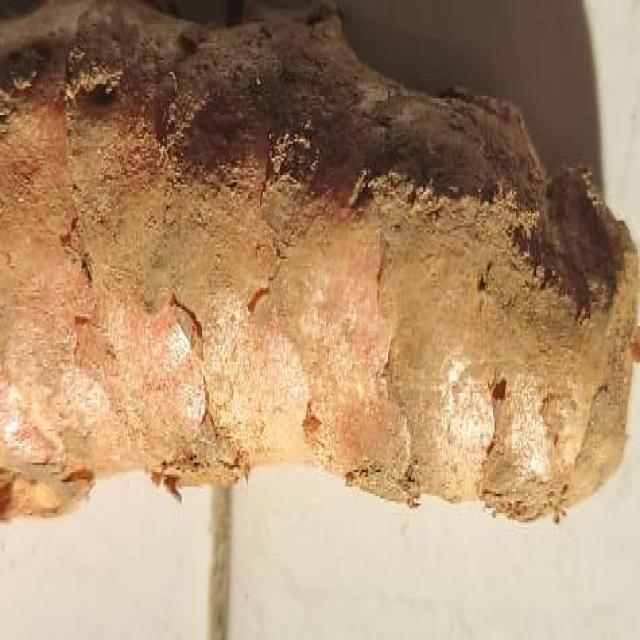ginger: (6, 0, 606, 525)
